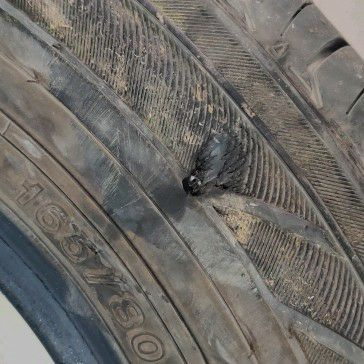cut: (182, 136, 232, 201)
